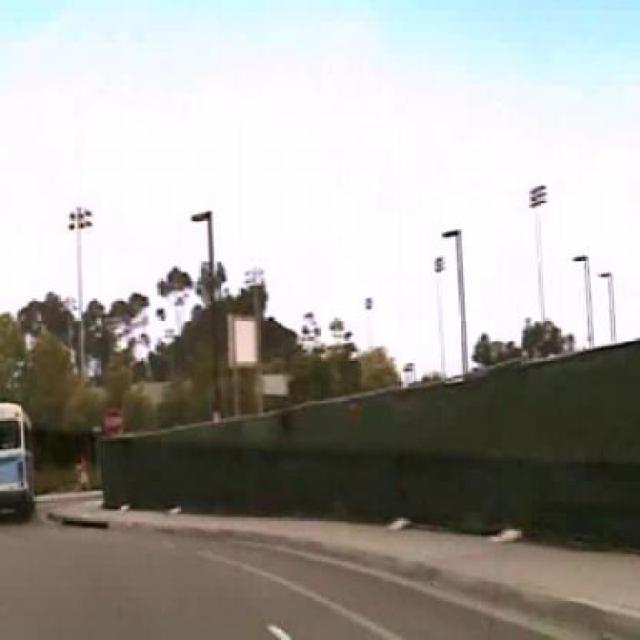stop: (100, 406, 123, 439)
